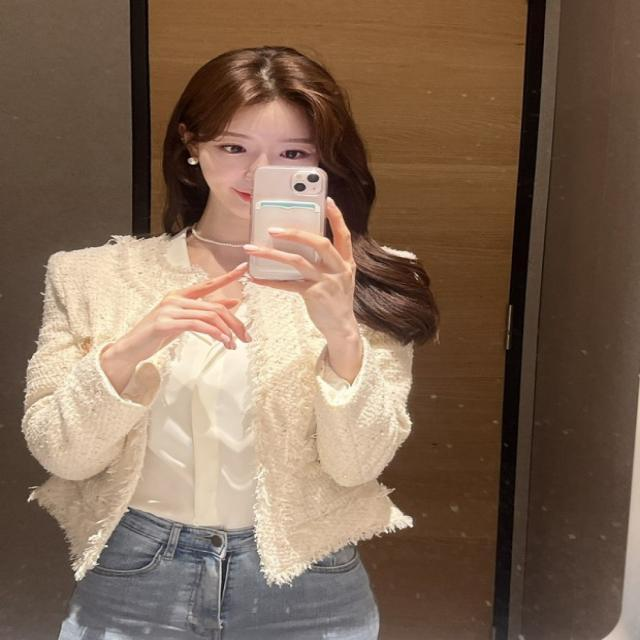phone: (248, 166, 328, 280)
